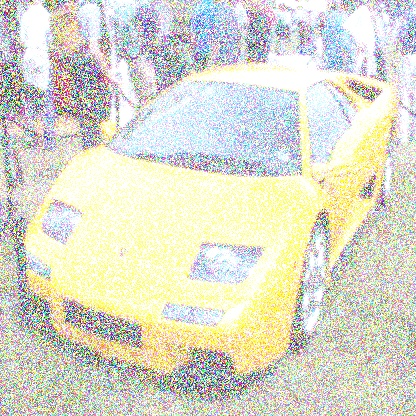Vehicle: (23, 60, 401, 384)
